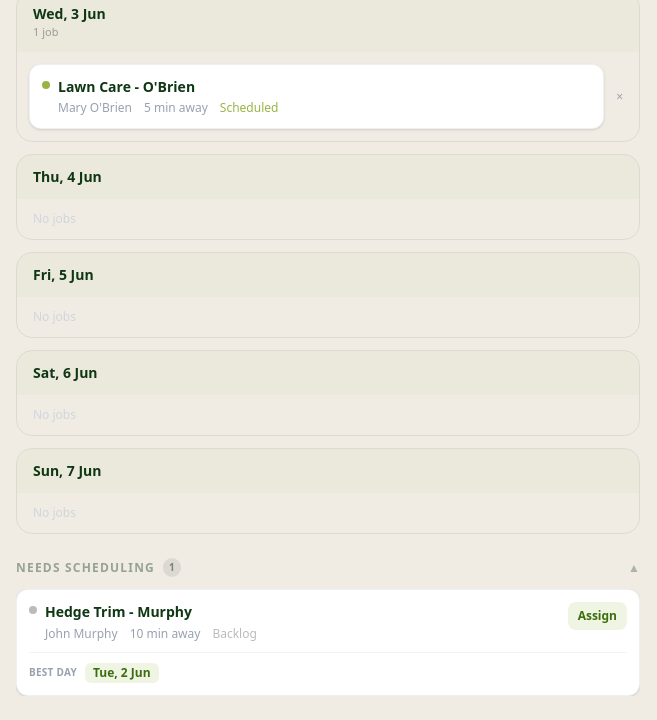
Test case: Schedule — assigning a date › shows Scheduled status (not Backlog) after a date is assigned
This screenshot has width=657, height=720.
(page scrolled)
Click the button "Assign" at (597, 616), box left=568, top=602, right=627, bottom=630
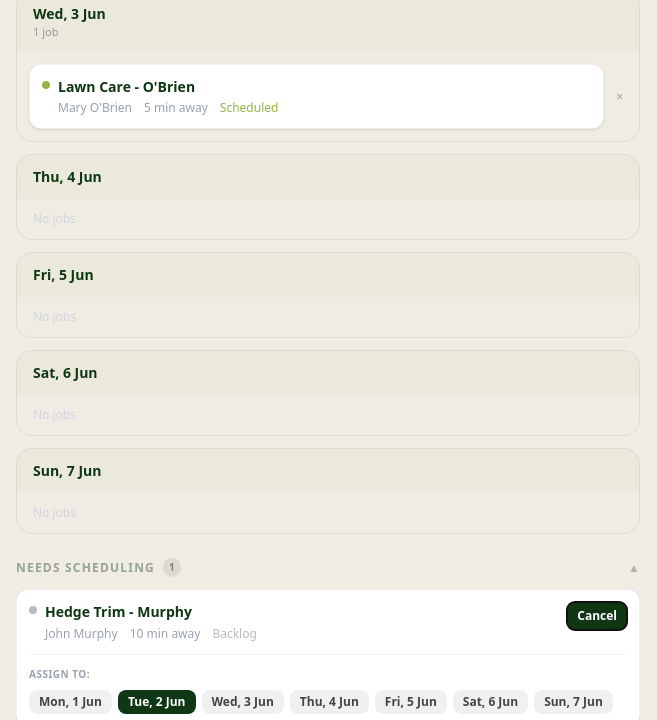
Click the button "Mon, 1 Jun" at (70, 702), box left=29, top=690, right=112, bottom=714
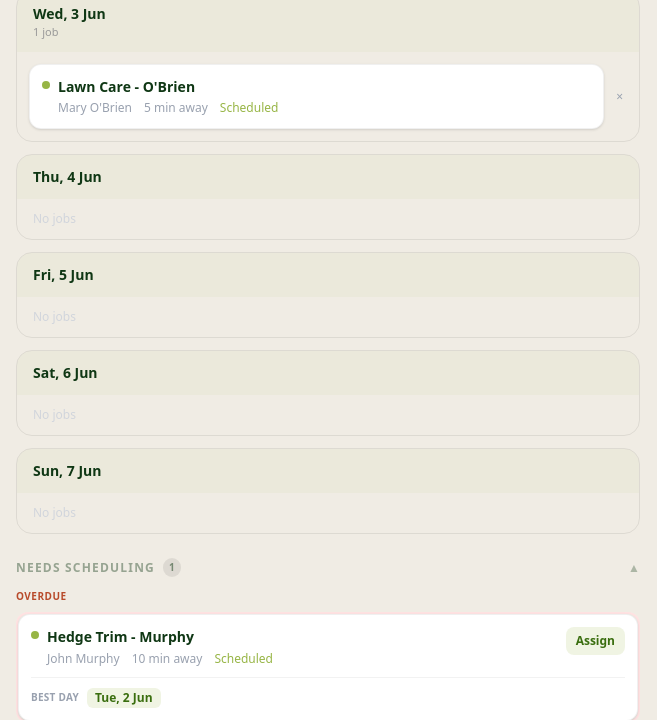
Check: the link "Backlog" is gone
